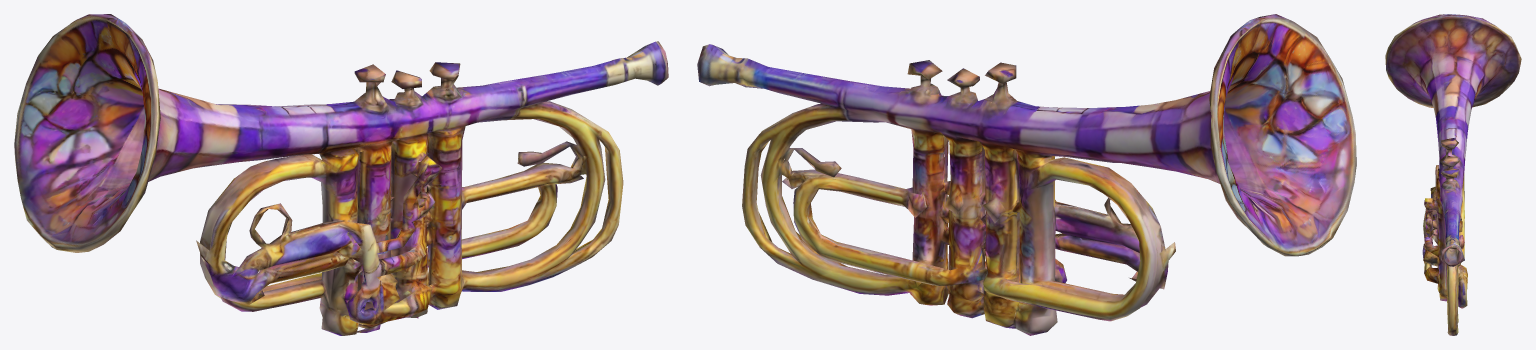
File: testTrumpetAmythest.glb
3 renders of one model, left to right at view 1: azimuth 30°, elevation 25°; view 2: azimuth 150°, elevation 25°; view 3: azimuth 270°, elevation 25°, orthographic. The views are drawn at different scales.
Visible parts, largest first — view 1: Mesh_0; view 2: Mesh_0; view 3: Mesh_0.
Boxes of the visible parts, x1,y1,x2,y2 form: Mesh_0: (14, 14, 668, 335); Mesh_0: (697, 14, 1356, 335); Mesh_0: (1385, 14, 1521, 335).
Size of the model in its own units: 1.75 by 1 by 0.6044.
1 material, 1 textured.
